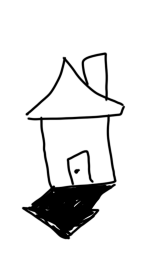chimney: (78, 49, 120, 98)
door: (58, 143, 101, 186)
roof: (14, 49, 130, 121)
shadow: (19, 178, 126, 242)
wall: (33, 112, 120, 191)
